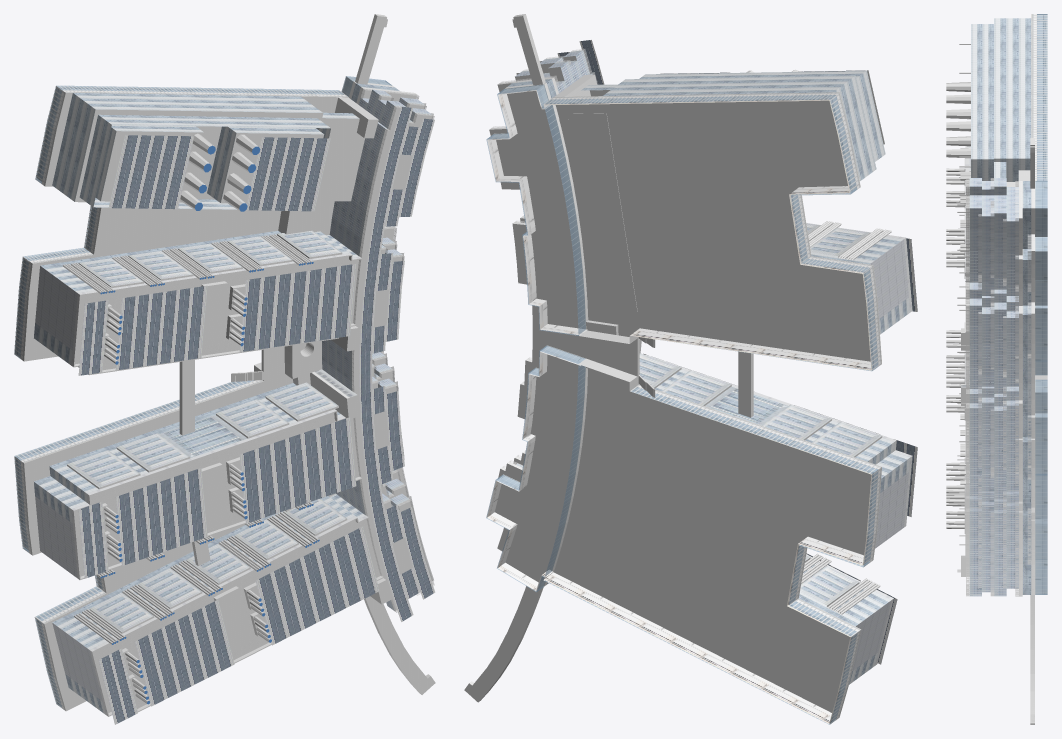
3 views of the same model, side by side, from view 1: azimuth 30°, elevation 25°; view 2: azimuth 150°, elevation 25°; view 3: azimuth 270°, elevation 25° (orthographic). The views are drawn at different scales.
Parts seen in each view (by area): view 1: 左侧A栋, 左侧B栋, 左侧C栋, 左侧AB底座, 左侧AB底座.001, 左侧D栋光伏层, 左侧D栋2层墙面, 左侧D栋2层底面, 左侧D栋1层墙面, 左侧柱子D, 左侧左连廊.002, 左侧左连廊 (+1 smaller); view 2: 左侧AB底座.001, 左侧AB底座, 左侧B栋, 左侧C栋, 左侧A栋, 左侧D栋1层墙面, 左侧D栋2层底面, 左侧D栋2层墙面, 左侧左连廊.002, 左侧左连廊, 左侧左连廊.001; view 3: 左侧AB底座, 左侧D栋1层墙面, 左侧D栋2层墙面, 左侧AB底座.001, 左侧C栋, 左侧D栋2层底面, 左侧B栋, 左侧A栋, 左侧柱子D, 左侧左连廊.002, 左侧左连廊.001.
Boxes of the visible parts, bbox=[...] form: 左侧A栋: bbox=[52, 494, 383, 724]; 左侧B栋: bbox=[34, 382, 362, 579]; 左侧C栋: bbox=[34, 230, 362, 375]; 左侧AB底座: bbox=[231, 76, 435, 621]; 左侧AB底座.001: bbox=[14, 85, 348, 711]; 左侧D栋光伏层: bbox=[108, 135, 330, 211]; 左侧D栋2层墙面: bbox=[79, 114, 330, 209]; 左侧D栋2层底面: bbox=[67, 104, 364, 202]; 左侧D栋1层墙面: bbox=[52, 93, 315, 196]; 左侧柱子D: bbox=[180, 133, 260, 211]; 左侧左连廊.002: bbox=[364, 596, 435, 694]; 左侧左连廊: bbox=[179, 359, 210, 565]; 左侧AB底座.001: bbox=[543, 92, 881, 724]; 左侧AB底座: bbox=[486, 40, 655, 591]; 左侧B栋: bbox=[639, 353, 917, 548]; 左侧C栋: bbox=[806, 221, 917, 334]; 左侧A栋: bbox=[799, 553, 897, 684]; 左侧D栋1层墙面: bbox=[603, 81, 868, 181]; 左侧D栋2层底面: bbox=[581, 75, 876, 174]; 左侧D栋2层墙面: bbox=[639, 70, 885, 161]; 左侧左连廊.002: bbox=[464, 586, 543, 702]; 左侧左连廊: bbox=[738, 351, 753, 417]; 左侧左连廊.001: bbox=[512, 14, 545, 85]; 左侧AB底座: bbox=[957, 170, 1047, 596]; 左侧D栋1层墙面: bbox=[1006, 18, 1031, 181]; 左侧D栋2层墙面: bbox=[971, 24, 993, 180]; 左侧AB底座.001: bbox=[1031, 14, 1047, 379]; 左侧C栋: bbox=[946, 146, 970, 333]; 左侧D栋2层底面: bbox=[994, 18, 1006, 180]; 左侧B栋: bbox=[946, 322, 969, 463]; 左侧A栋: bbox=[946, 443, 969, 557]; 左侧柱子D: bbox=[946, 82, 970, 158]; 左侧左连廊.002: bbox=[1030, 595, 1034, 724]; 左侧左连廊.001: bbox=[1030, 138, 1034, 188].
Size of the model in its own units: 87.09 by 140 by 22.5.
17 materials, 16 textured.
